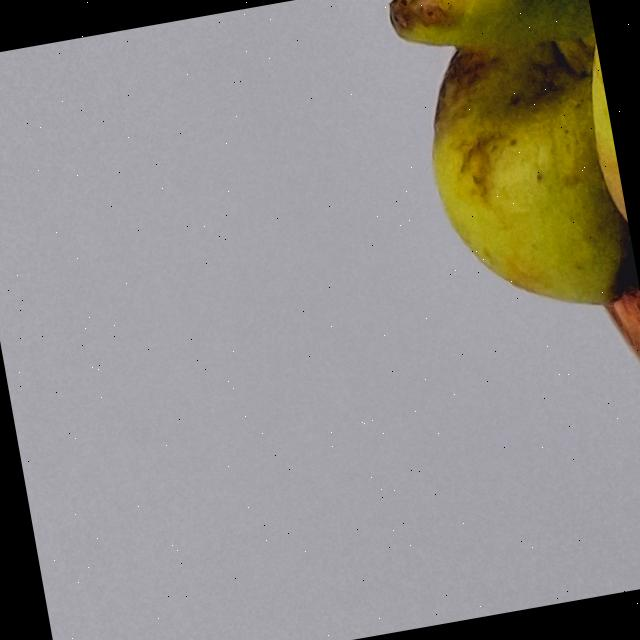mangosteen: (353, 0, 640, 619)
